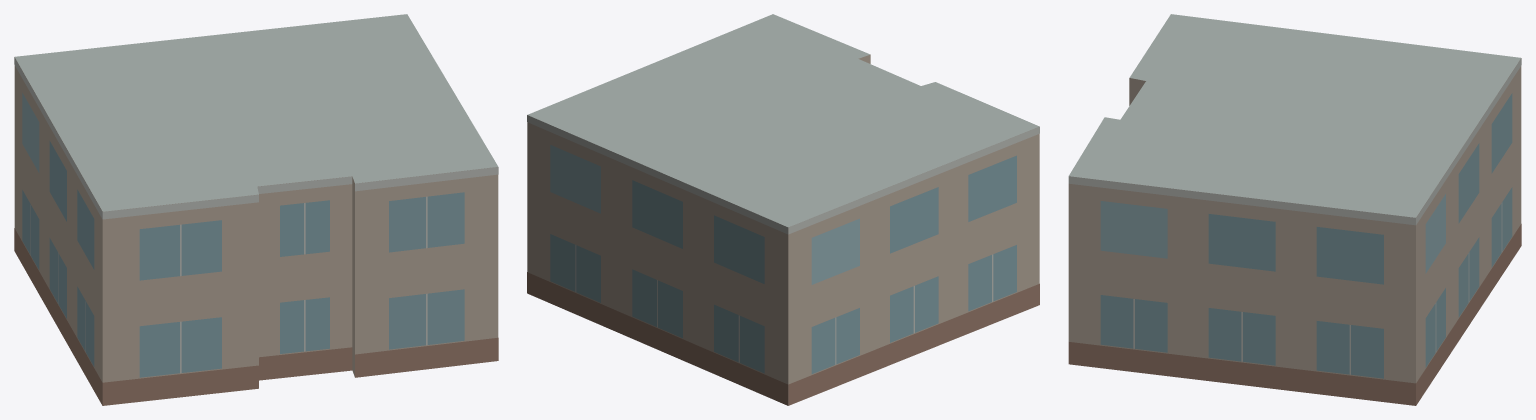
The model's file is survey-upis-33007704.glb.
The picture shows the model from 3 angles, left to right: view 1: azimuth 30°, elevation 25°; view 2: azimuth 150°, elevation 25°; view 3: azimuth 270°, elevation 25°; orthographic projection. The views are drawn at different scales.
Parts seen in each view (by area): view 1: survey-upis-33007704.tmp; view 2: survey-upis-33007704.tmp; view 3: survey-upis-33007704.tmp.
Boxes of the visible parts, bbox=[...] form: survey-upis-33007704.tmp: bbox=[14, 14, 498, 405]; survey-upis-33007704.tmp: bbox=[527, 14, 1039, 405]; survey-upis-33007704.tmp: bbox=[1068, 14, 1521, 405].
Bounding box in the file's own units: 14.19 × 6.1 × 13.32.
